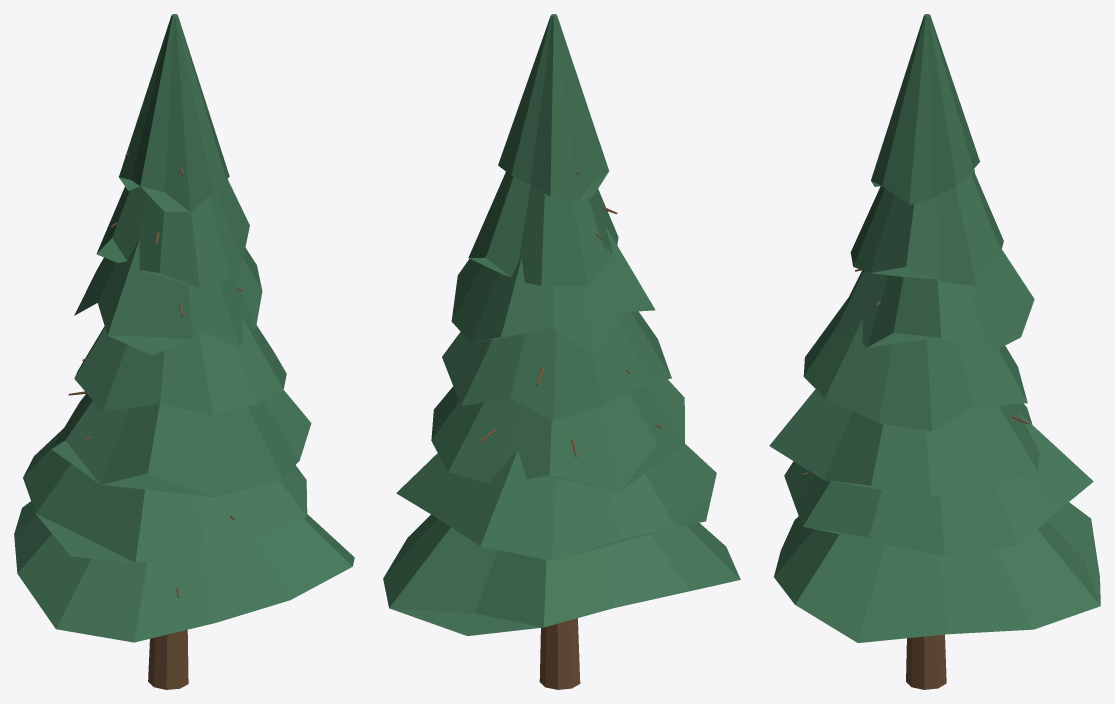
Rendered from pine-1.glb.
3 renders of one model, left to right at view 1: azimuth 30°, elevation 25°; view 2: azimuth 150°, elevation 25°; view 3: azimuth 270°, elevation 25°, orthographic.
Visible parts, largest first — view 1: pine-1; view 2: pine-1; view 3: pine-1.
Part boxes in pixels (x1,y1,x2,y2): pine-1: (14, 14, 354, 689); pine-1: (383, 14, 740, 689); pine-1: (769, 14, 1100, 689).
Size of the model in its own units: 3.17 by 6.73 by 3.03.
